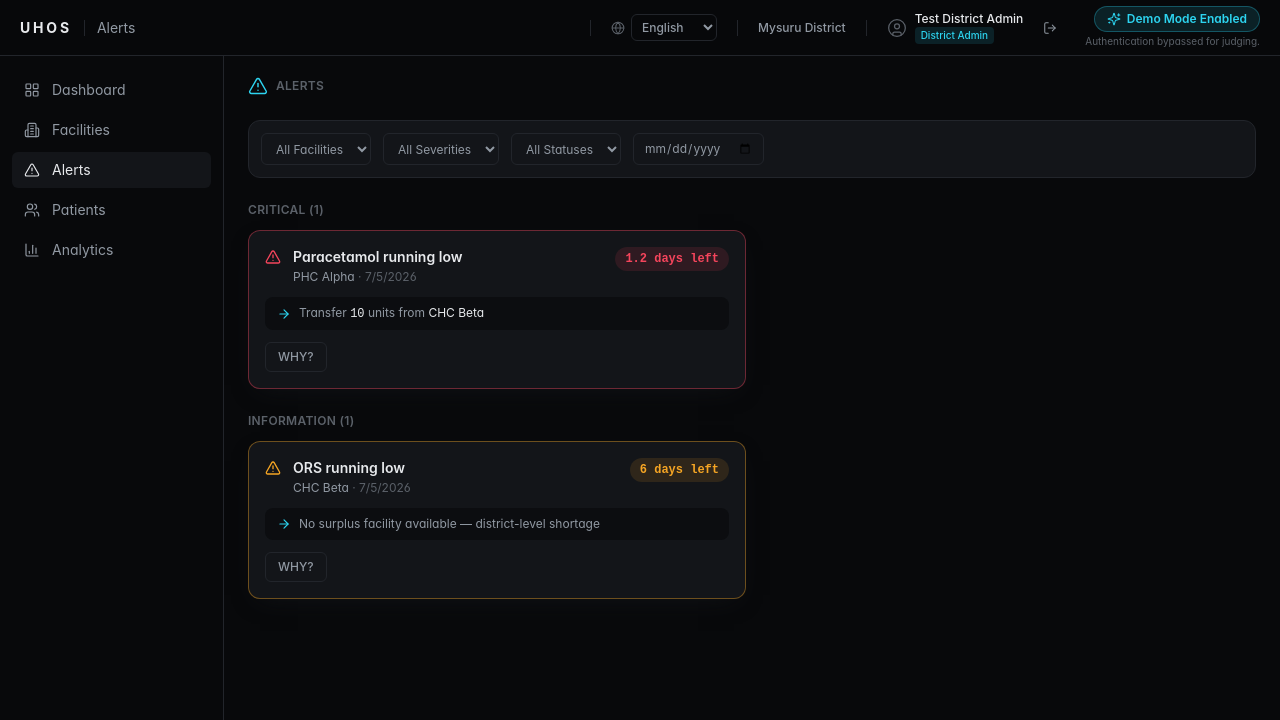
Test case: Alerts page › opens the Why Drawer for an alert
expect the text "Paracetamol running low" is shown: met, box [293,247,462,267]
Step 1. Click the button "WHY?" below "10" → [296, 357], box [265,342,327,372]
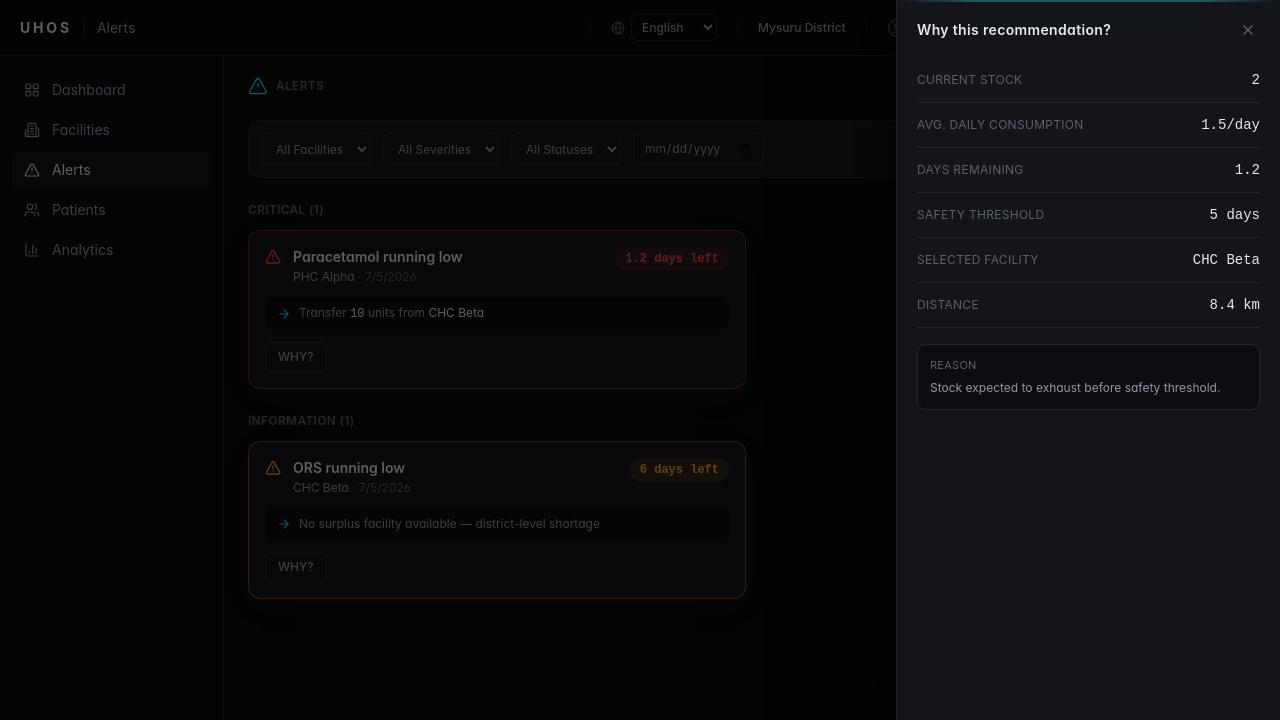
expect the text "8.4 km" is shown: met, box [1210,295,1260,315]
